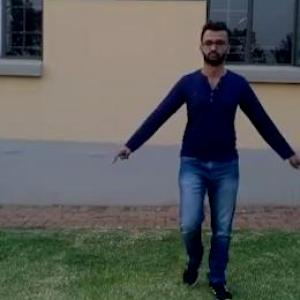land: (112, 26, 299, 299)
